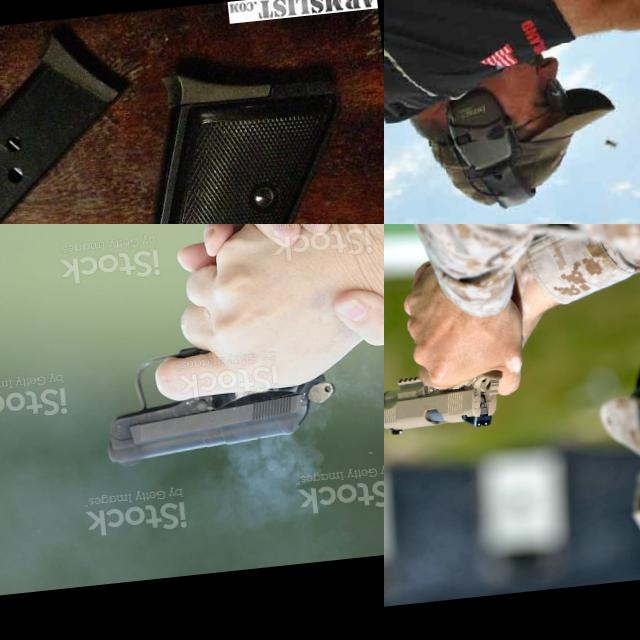handgun: (0, 42, 381, 224), (94, 328, 344, 470), (384, 363, 513, 440)
